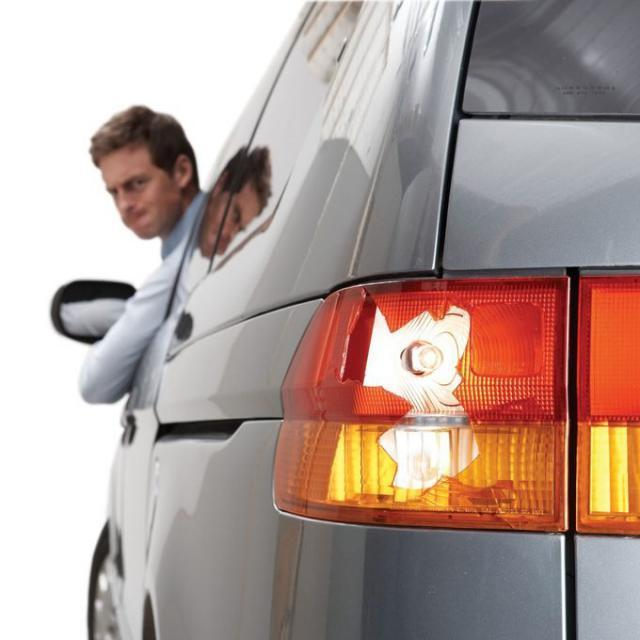Signlight-Damage: (278, 412, 574, 536)
Taillight-Damage: (262, 255, 634, 547)
